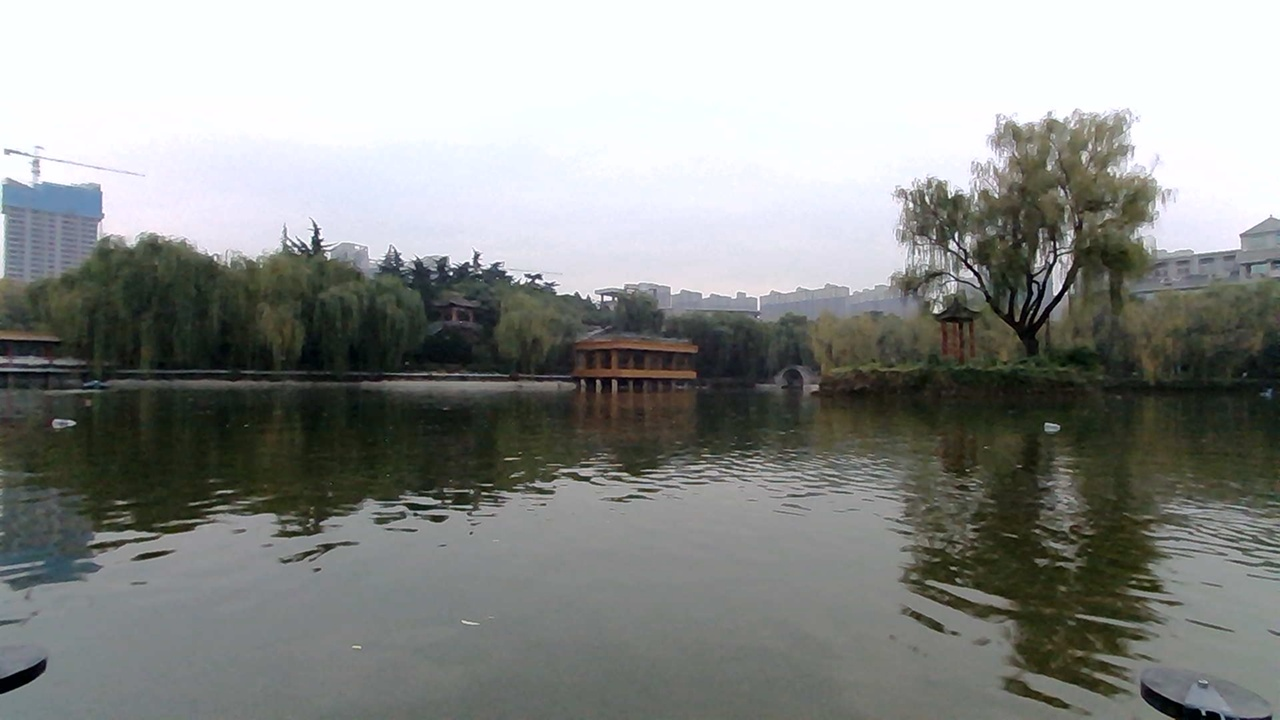bottle: (1028, 412, 1083, 444), (36, 402, 85, 436)
